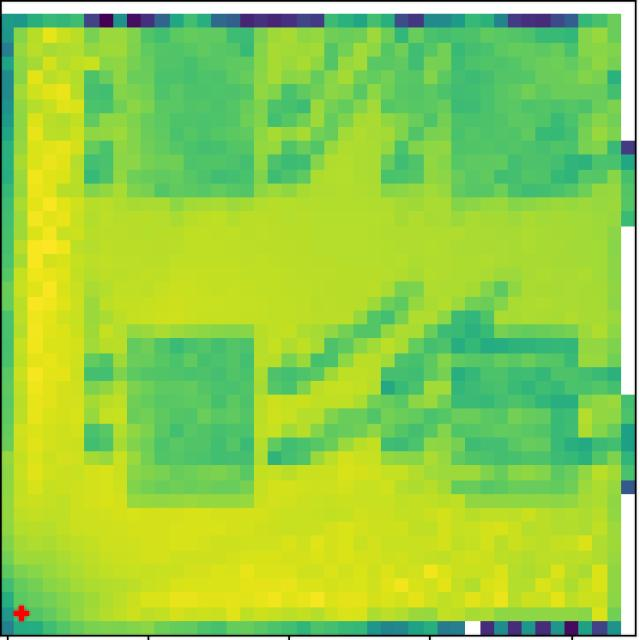Concrete: (446, 34, 586, 197)
Glass: (110, 36, 253, 200)
Metal: (453, 325, 580, 494)
Wood: (127, 330, 255, 503)
